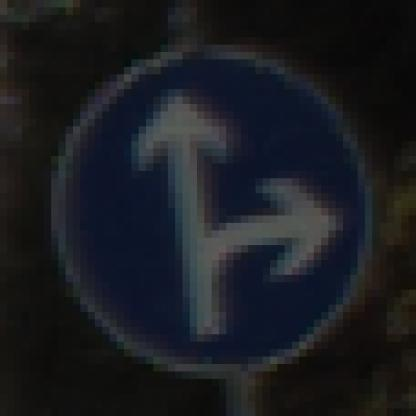Straight or Right: (38, 38, 373, 380)
